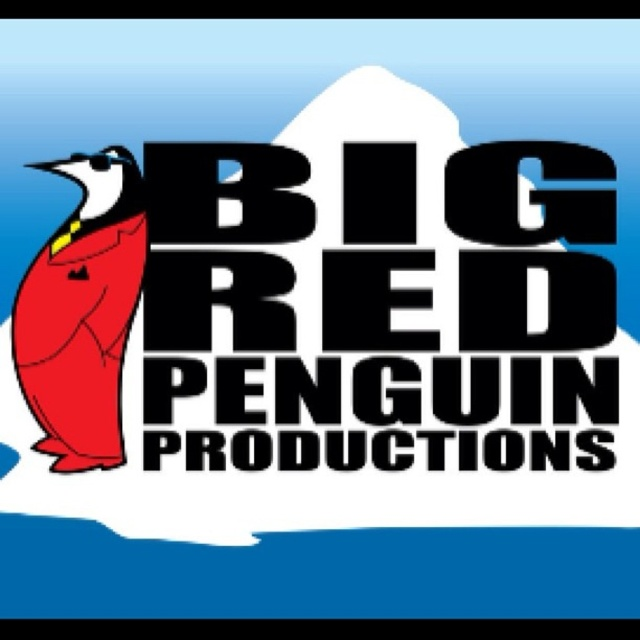Penguin: (6, 141, 148, 475)
